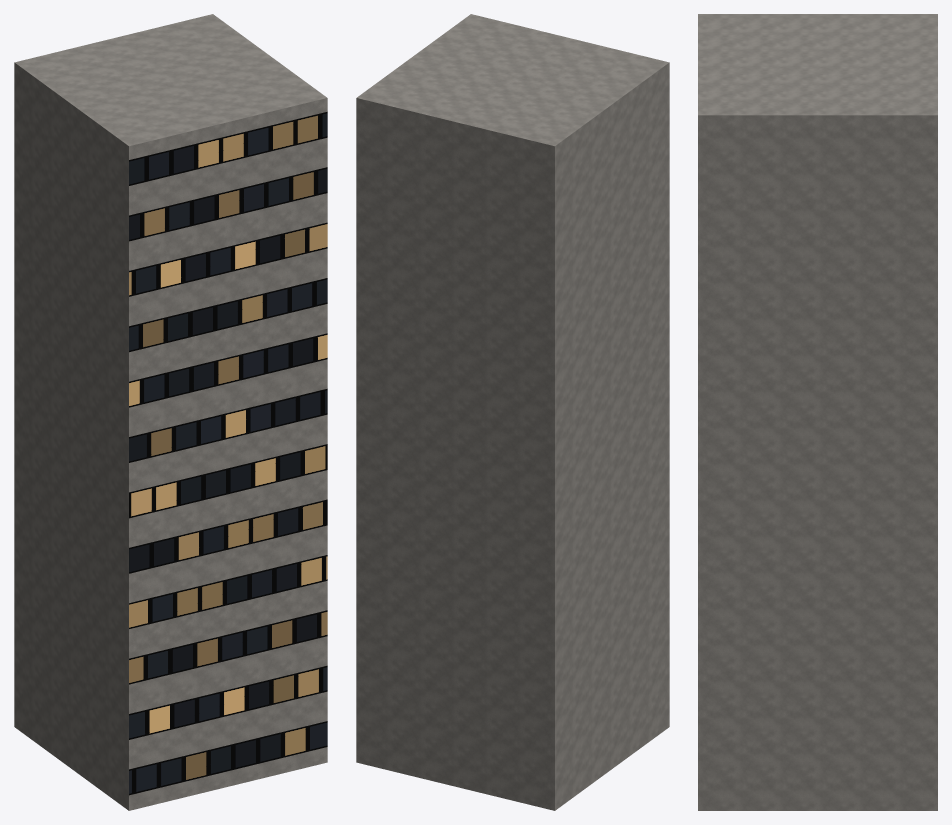
The model's file is Bld_Tower2.fbx.
The picture shows the model from 3 angles, left to right: view 1: azimuth 30°, elevation 25°; view 2: azimuth 150°, elevation 25°; view 3: azimuth 270°, elevation 25°; orthographic projection. The views are drawn at different scales.
Visible parts, largest first — view 1: Bld_Tower2; view 2: Bld_Tower2; view 3: Bld_Tower2.
Part boxes in pixels (left/top/right/bottom): Bld_Tower2: left=14, top=14, right=327, bottom=810; Bld_Tower2: left=356, top=14, right=669, bottom=810; Bld_Tower2: left=698, top=14, right=937, bottom=810.
Bounding box in the file's own units: 12 × 38.4 × 12.
